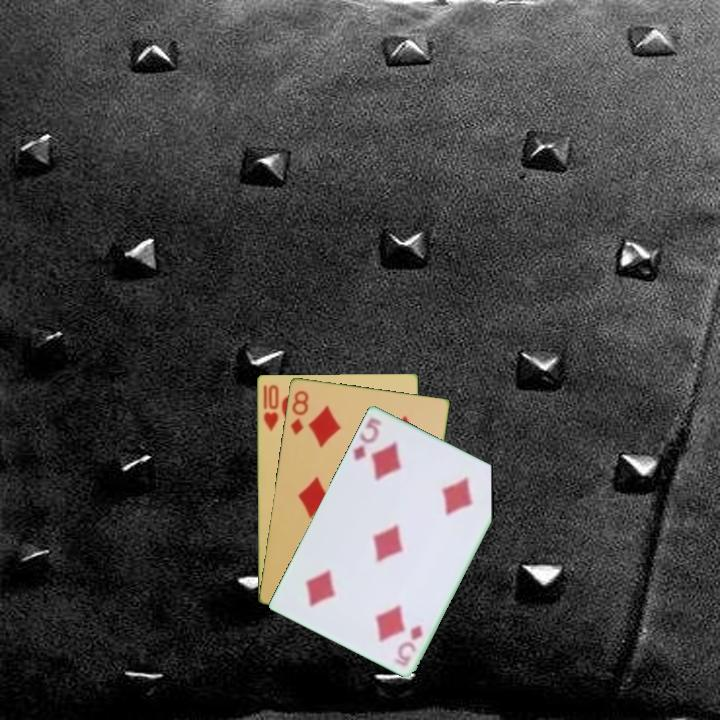10h: (259, 381, 281, 434)
5d: (349, 413, 385, 464), (397, 621, 426, 660)
8d: (287, 387, 311, 438)
